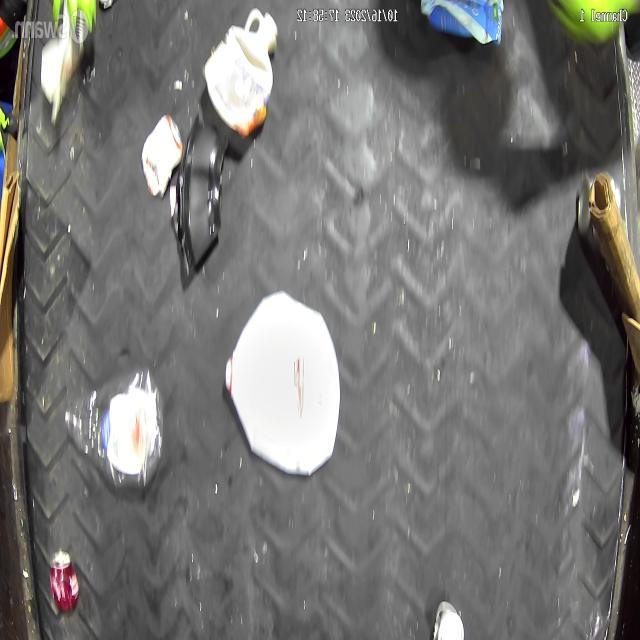can: (141, 115, 183, 197), (578, 176, 622, 244), (50, 550, 80, 614), (433, 600, 465, 640)
milk_jug: (226, 290, 340, 477), (204, 7, 278, 138)
non_white_jug: (421, 0, 504, 46)
plastic_bottle: (64, 369, 164, 490)
